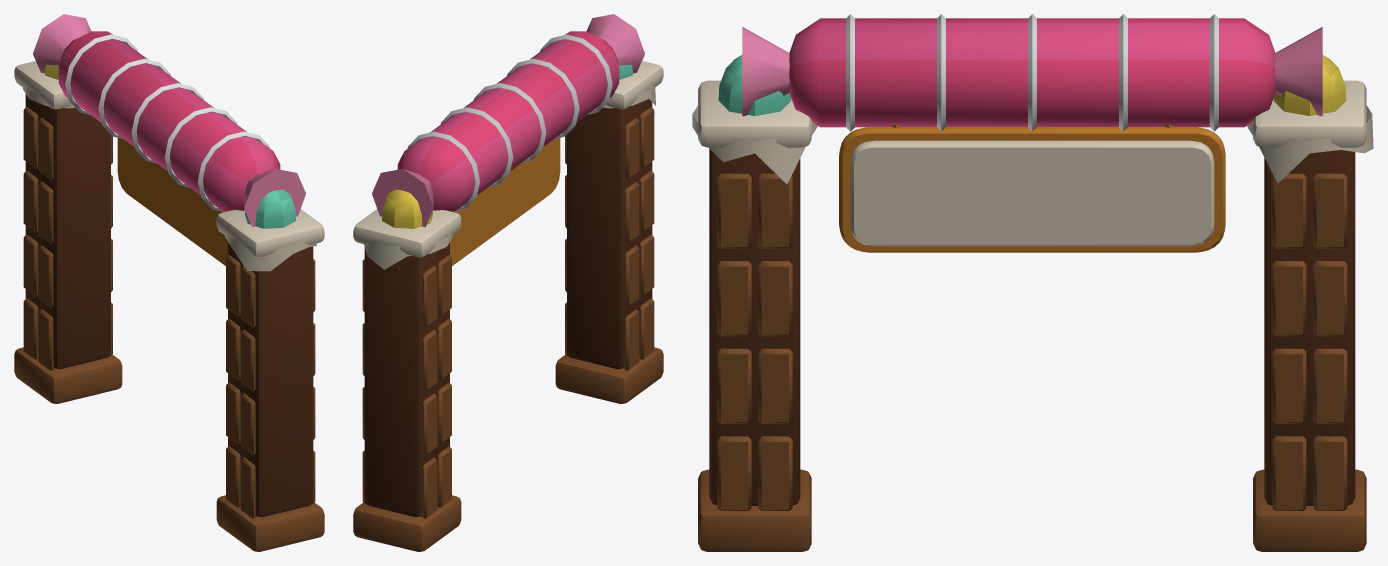
File: stage_gate.glb
3 views of the same model, side by side, from view 1: azimuth 30°, elevation 25°; view 2: azimuth 150°, elevation 25°; view 3: azimuth 270°, elevation 25° (orthographic). The views are drawn at different scales.
Visible parts, largest first — view 1: stage_gate; view 2: stage_gate; view 3: stage_gate.
Boxes of the visible parts, box(x1,y1,x2,y2) form: stage_gate: box(14, 14, 324, 551); stage_gate: box(353, 14, 663, 551); stage_gate: box(692, 14, 1373, 551).
Bounding box in the file's own units: 1.1 × 4.97 × 5.99.
